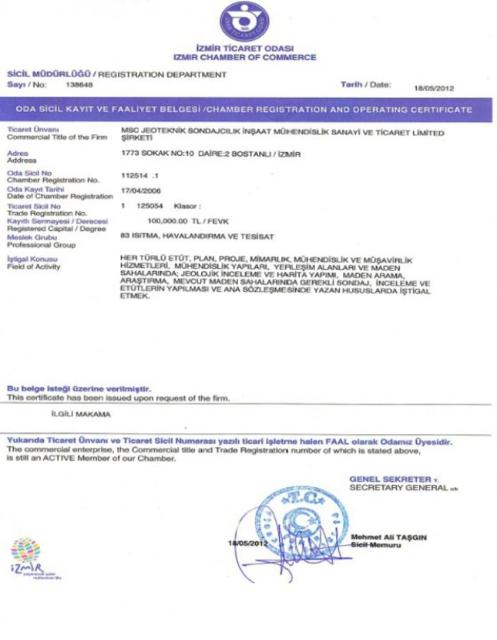stamp: (255, 486, 349, 560)
